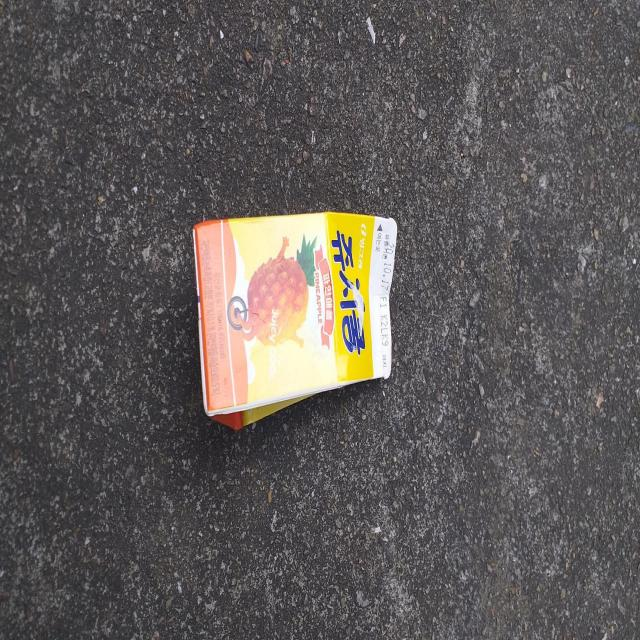paperpack: (193, 212, 397, 429)
